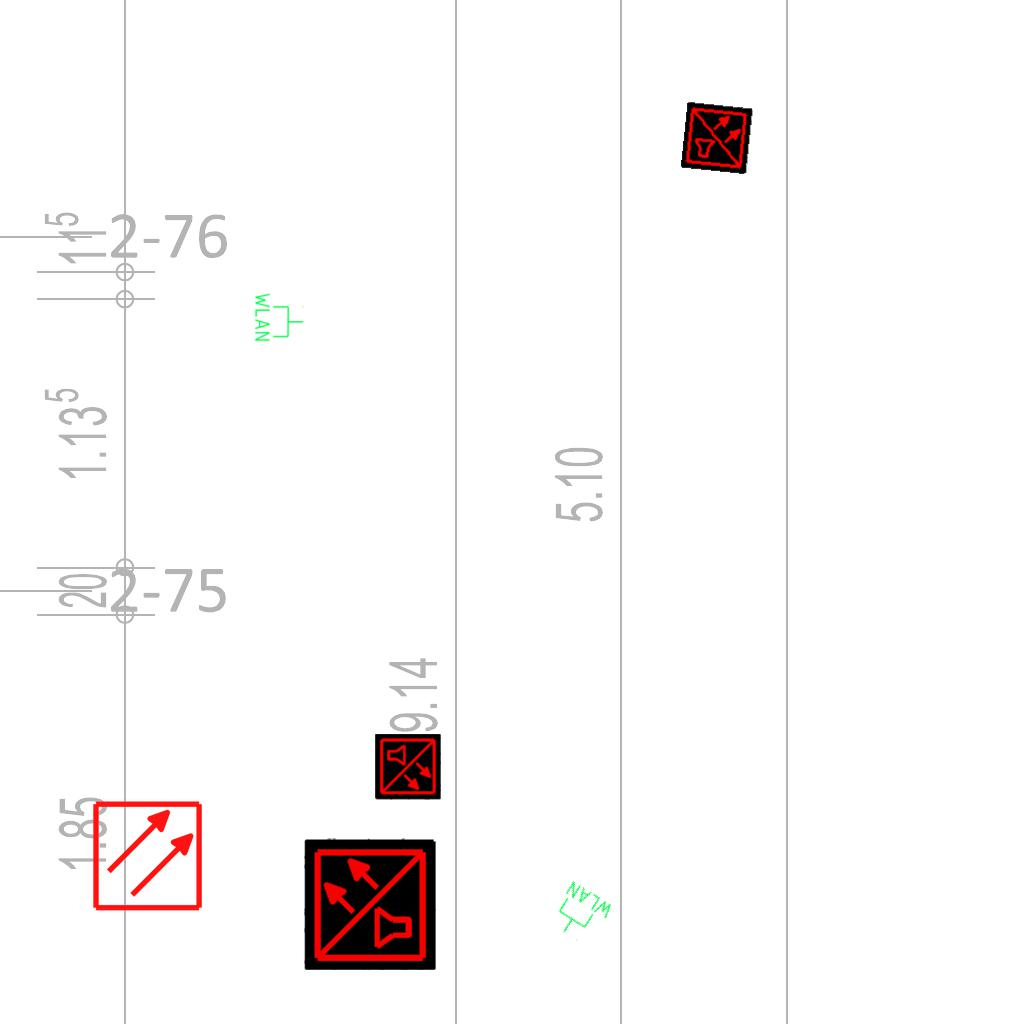OKW_Multisensormelder_(Kombination_optischer_Rauch-Kahlenmonoxid_Waerme-Melder): (304, 838, 436, 970), (680, 101, 754, 175), (375, 734, 441, 800)
OT_Multisensormelder_(Kombination_RMO_WMD): (290, 837, 403, 950)
RMO_Rauchmelder_optischer: (91, 799, 204, 912)
WLAN: (545, 878, 617, 950), (253, 291, 305, 343)
